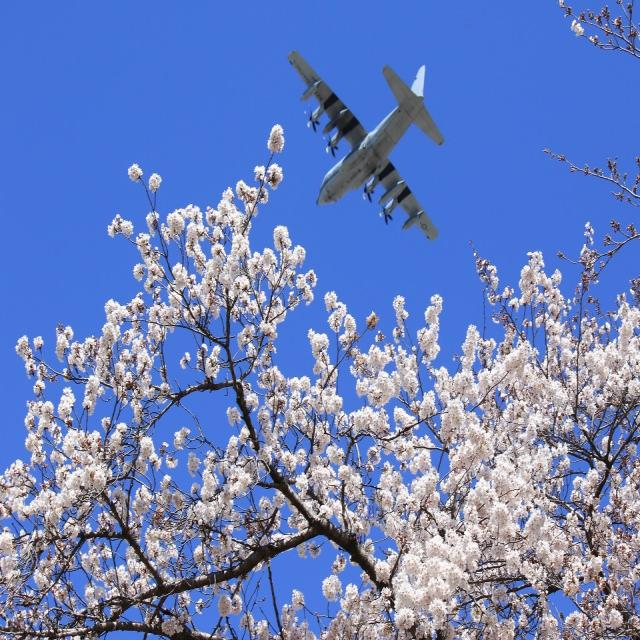MIL_Plane: (286, 49, 446, 242)
